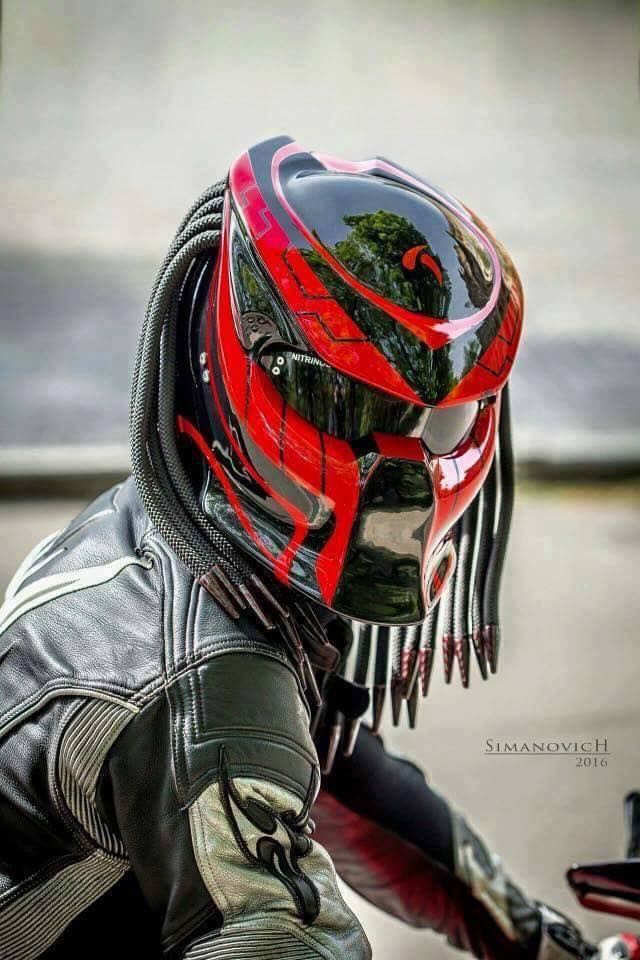Helmet: (125, 122, 537, 636)
